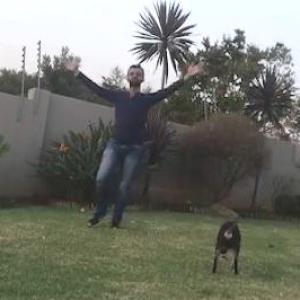takeoff: (70, 66, 193, 215)
